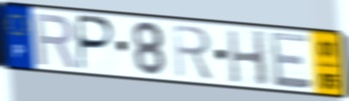8: (130, 20, 166, 77)
E: (267, 30, 315, 91)
H: (225, 28, 271, 89)
P: (76, 13, 117, 73)
R: (32, 11, 78, 70), (171, 22, 215, 81)
